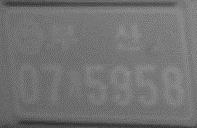0: (17, 63, 42, 108)
5: (135, 62, 161, 108), (84, 64, 107, 108)
7: (41, 59, 65, 107)
8: (108, 64, 135, 108), (161, 66, 186, 110)
가: (64, 67, 87, 104)
부산_D: (50, 20, 144, 55)
영: (10, 16, 48, 56)
